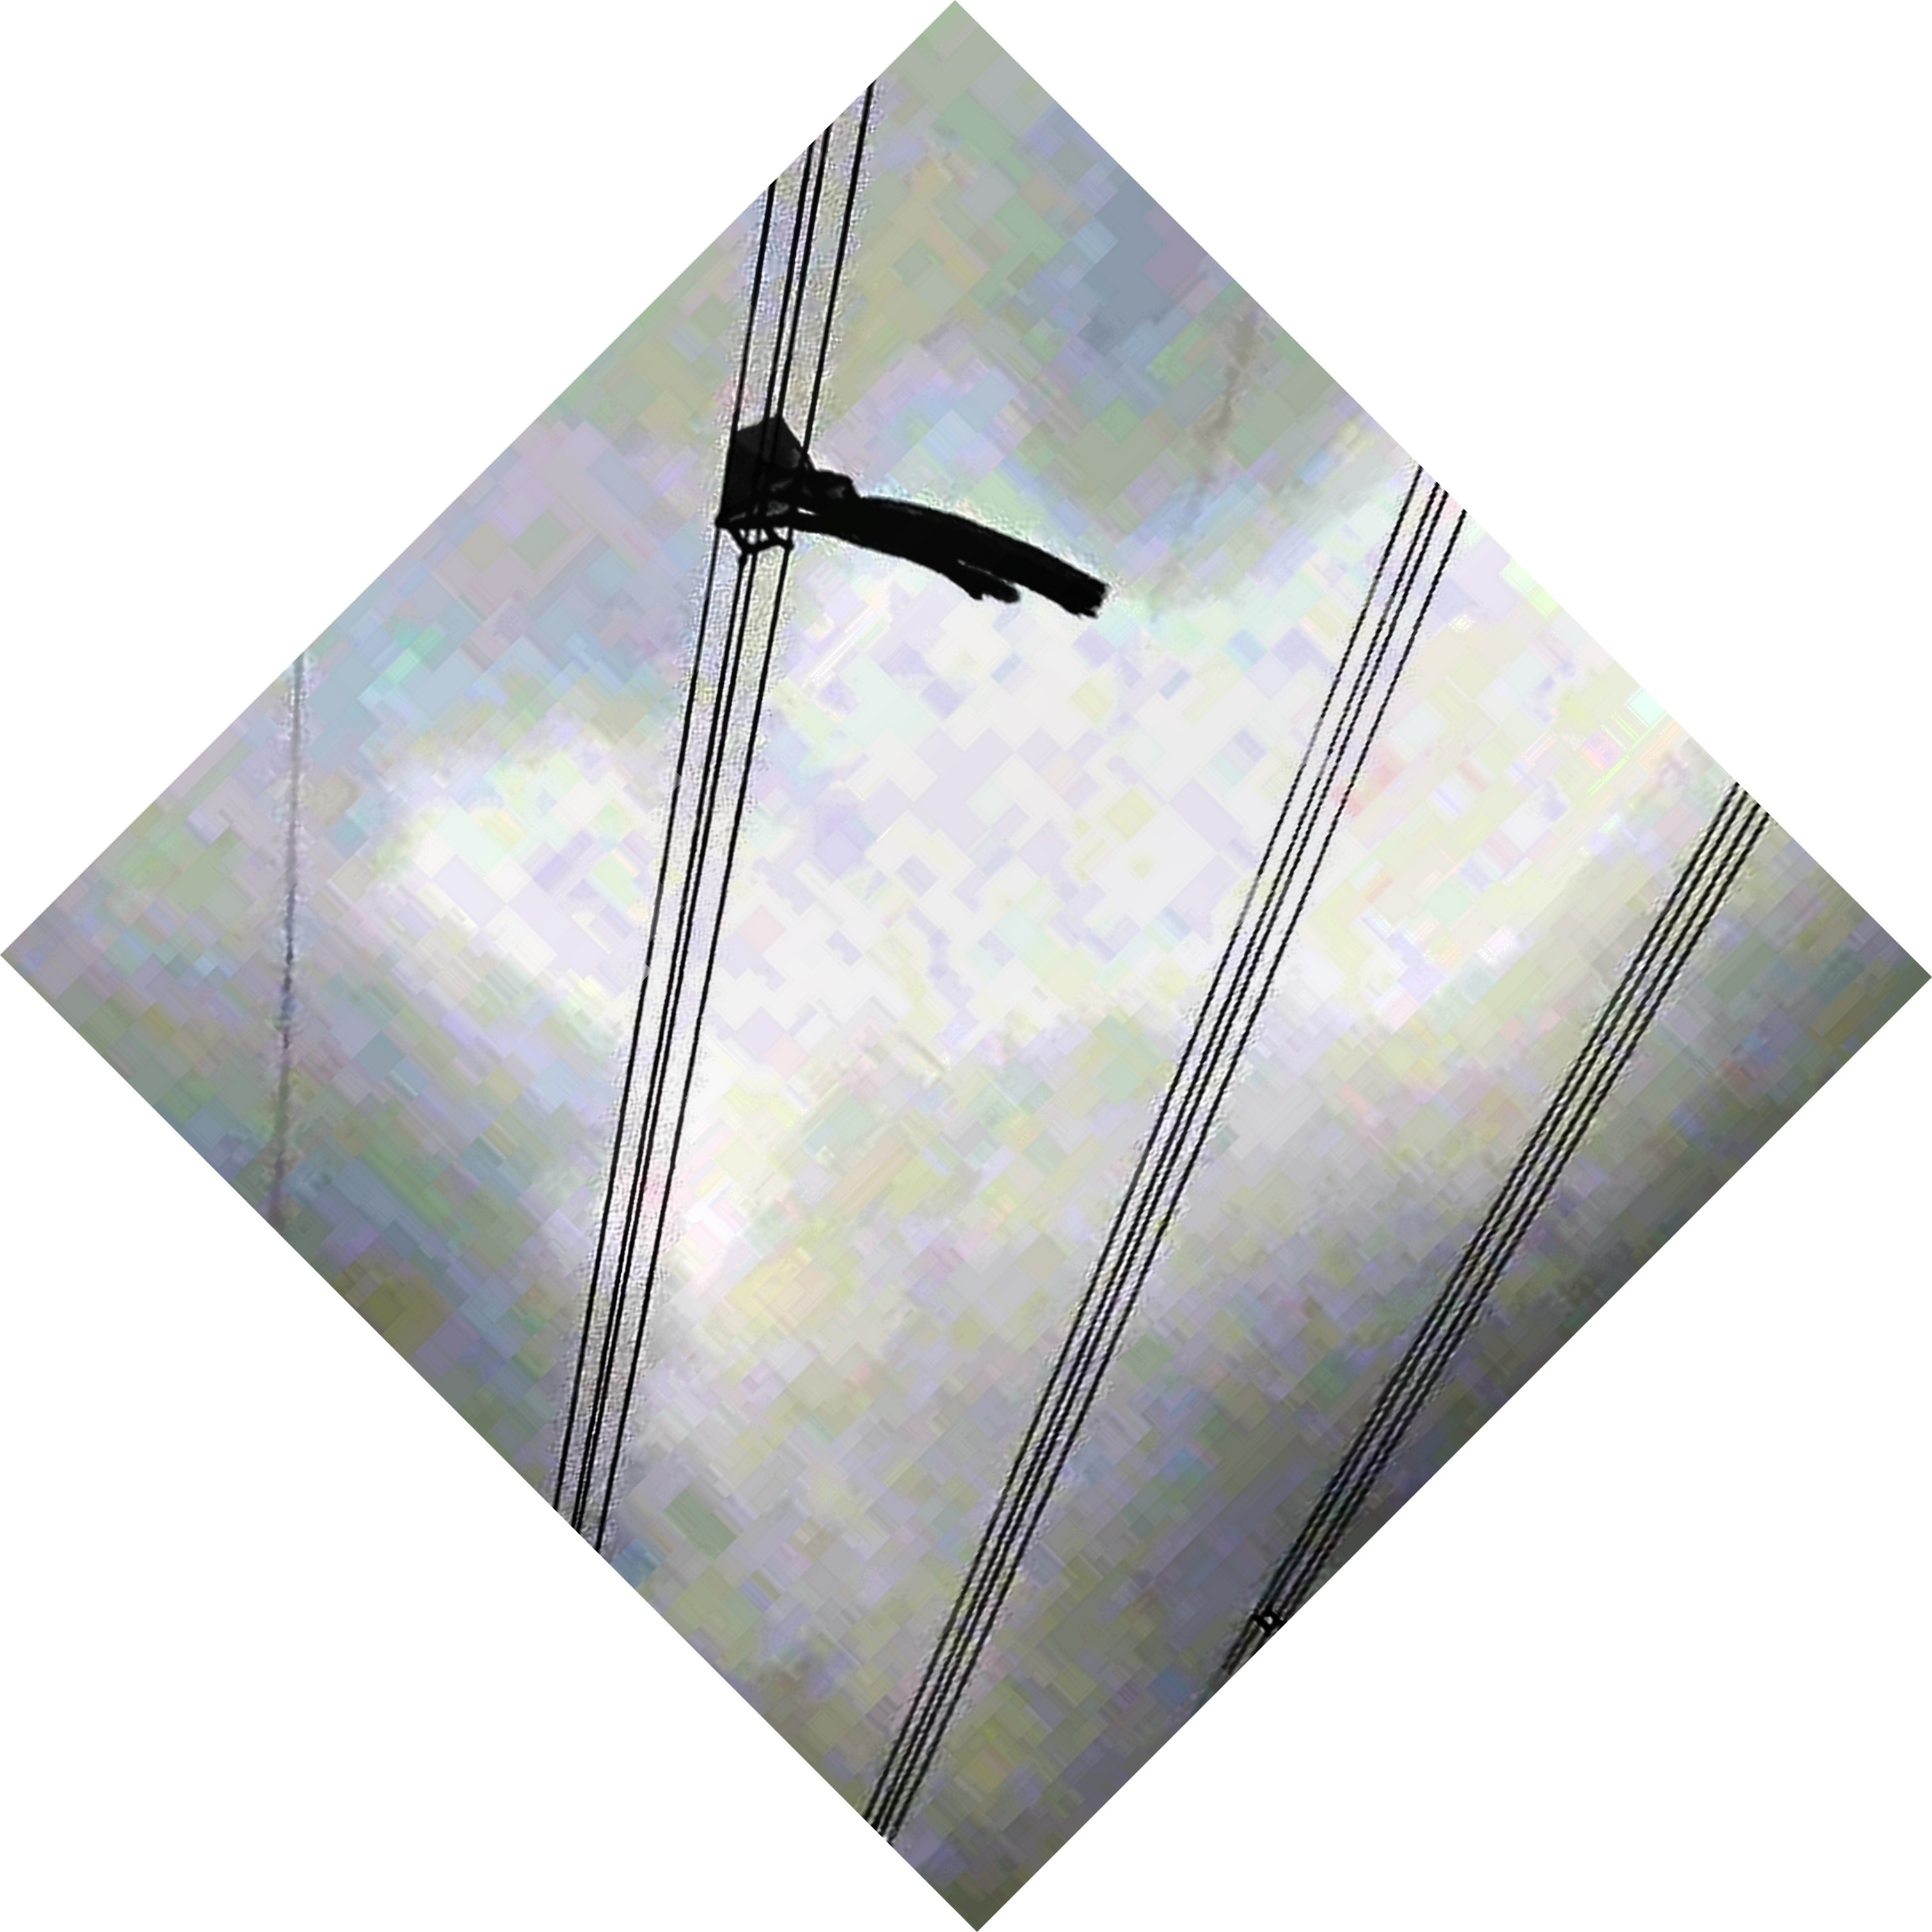wire foreign body: (679, 396, 1118, 637)
